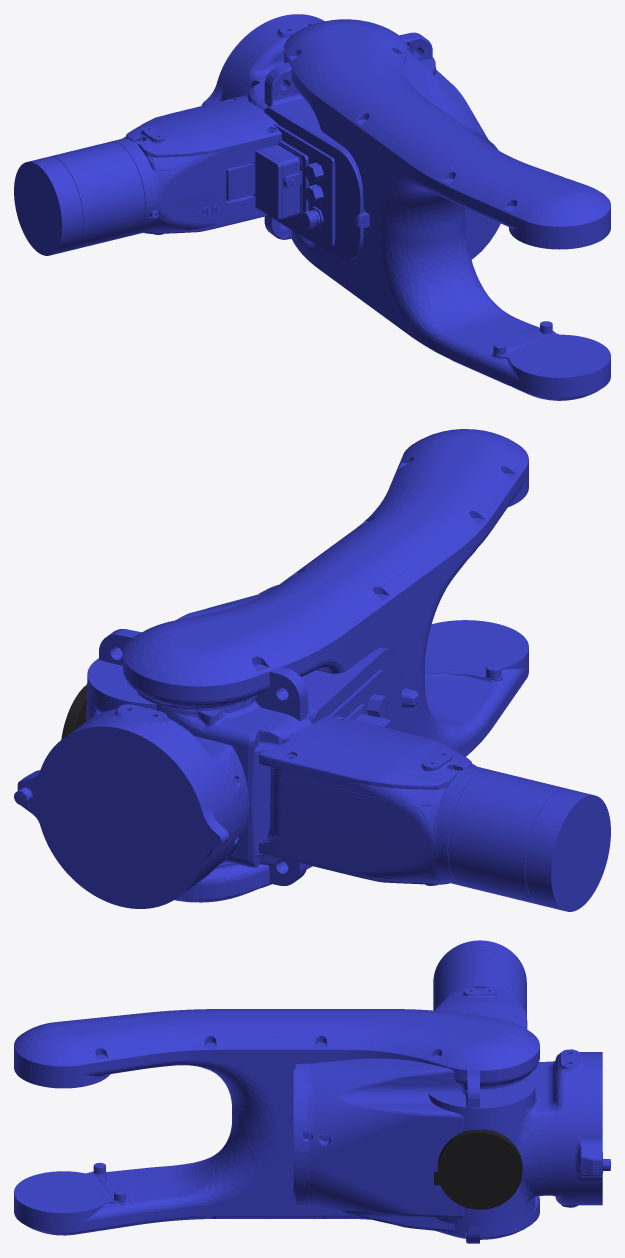
Rendered from arm.glb.
3 views of the same model, one above another, from view 1: azimuth 30°, elevation 25°; view 2: azimuth 150°, elevation 25°; view 3: azimuth 270°, elevation 25° (orthographic). The views are drawn at different scales.
Parts seen in each view (by area): view 1: b3, b5, b1, b2; view 2: b3, b5, b2, b1, b4, b7; view 3: b3, b1, b2, b5, b7.
Boxes of the visible parts, box(x1,y1,x2,y2) form: b3: box(284, 19, 610, 400); b5: box(14, 95, 281, 255); b1: box(253, 32, 500, 260); b2: box(201, 14, 435, 105); b3: box(123, 429, 528, 902); b5: box(259, 716, 610, 911); b2: box(14, 649, 249, 908); b1: box(99, 585, 418, 885); b4: box(156, 698, 311, 867); b7: box(61, 684, 86, 739); b3: box(14, 1009, 539, 1239); b1: box(293, 1013, 479, 1243); b2: box(428, 1049, 610, 1226); b5: box(433, 940, 527, 1029); b7: box(434, 1129, 522, 1209).
Size of the model in its own units: 0.4951 by 0.2301 by 0.6379.
